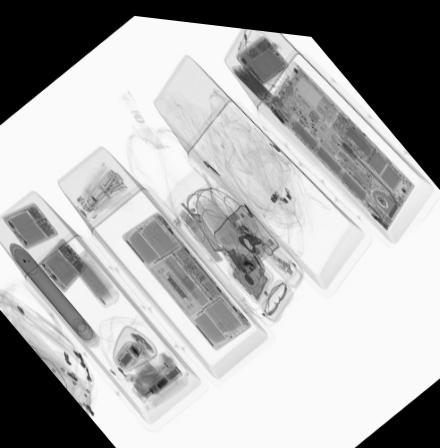Powerbank: (230, 241, 272, 298)
